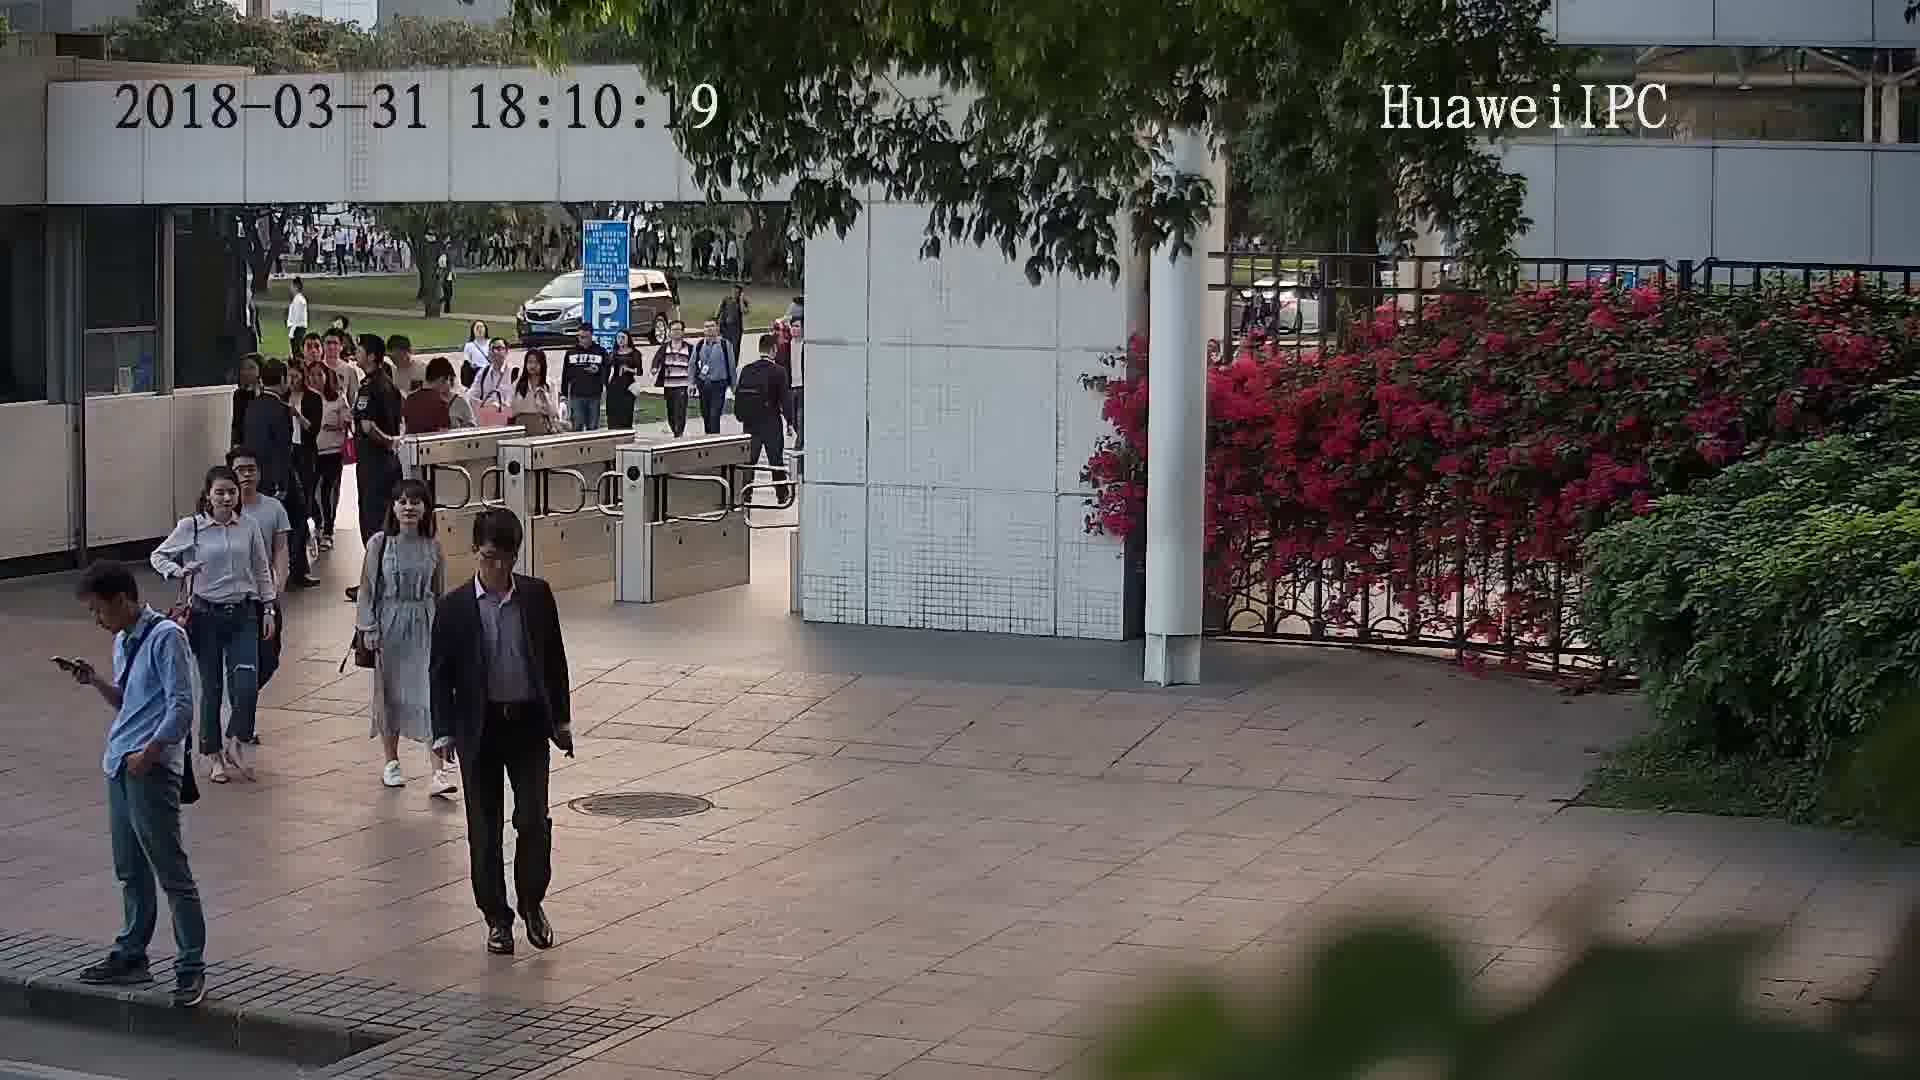face: (474, 543, 520, 589), (203, 475, 240, 519), (390, 487, 428, 529)
person: (441, 501, 553, 620), (79, 560, 191, 674), (179, 464, 264, 547), (366, 471, 446, 557), (228, 448, 284, 522), (240, 352, 287, 418), (407, 356, 461, 412), (739, 332, 788, 380), (355, 332, 393, 393), (284, 358, 324, 414), (382, 330, 421, 387), (301, 331, 341, 384), (511, 349, 556, 392), (477, 336, 518, 381), (326, 319, 359, 375), (567, 319, 608, 360), (699, 316, 733, 352), (608, 329, 641, 365), (661, 319, 694, 353), (467, 319, 499, 355), (288, 271, 311, 313), (725, 279, 749, 308)
